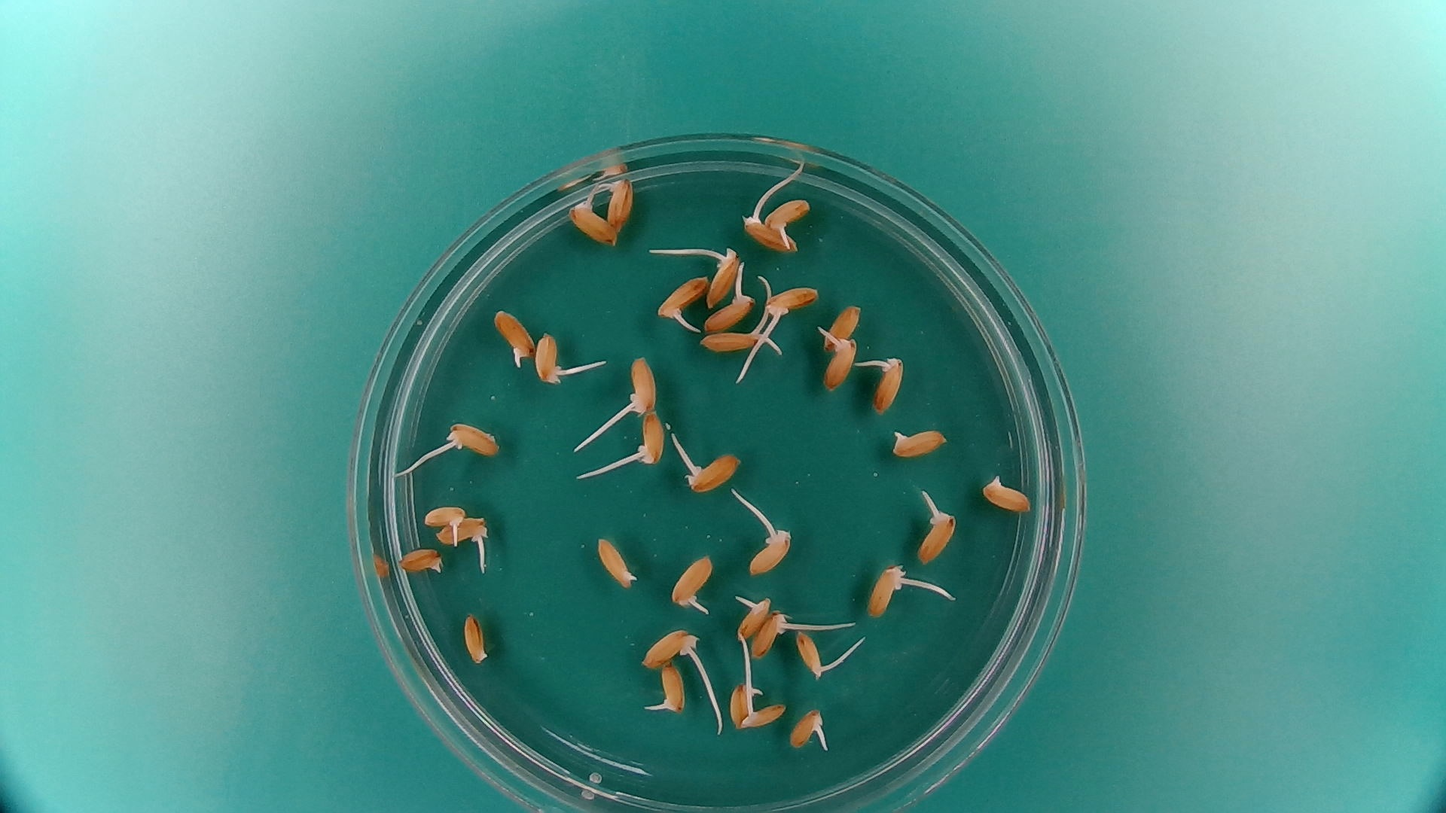no: (594, 534, 640, 590), (816, 302, 864, 352), (980, 476, 1036, 514), (886, 427, 947, 461), (460, 609, 491, 666), (395, 546, 447, 578)
yes: (491, 306, 535, 368), (668, 551, 715, 607), (655, 272, 707, 321), (820, 333, 862, 391), (745, 527, 792, 577), (690, 449, 743, 493), (639, 628, 692, 669), (869, 566, 909, 620), (871, 358, 907, 416), (915, 512, 955, 564), (749, 611, 794, 657), (763, 284, 822, 319), (705, 297, 761, 333), (746, 216, 798, 254), (787, 629, 830, 674), (708, 251, 743, 306), (628, 353, 660, 413), (786, 706, 828, 751), (434, 516, 490, 549), (573, 206, 618, 247), (764, 193, 813, 230), (448, 422, 501, 456), (735, 592, 770, 641), (606, 178, 636, 231), (640, 408, 667, 466), (728, 677, 759, 726), (534, 330, 560, 388), (737, 705, 792, 732), (697, 331, 761, 354), (657, 661, 686, 711), (421, 504, 468, 529)
